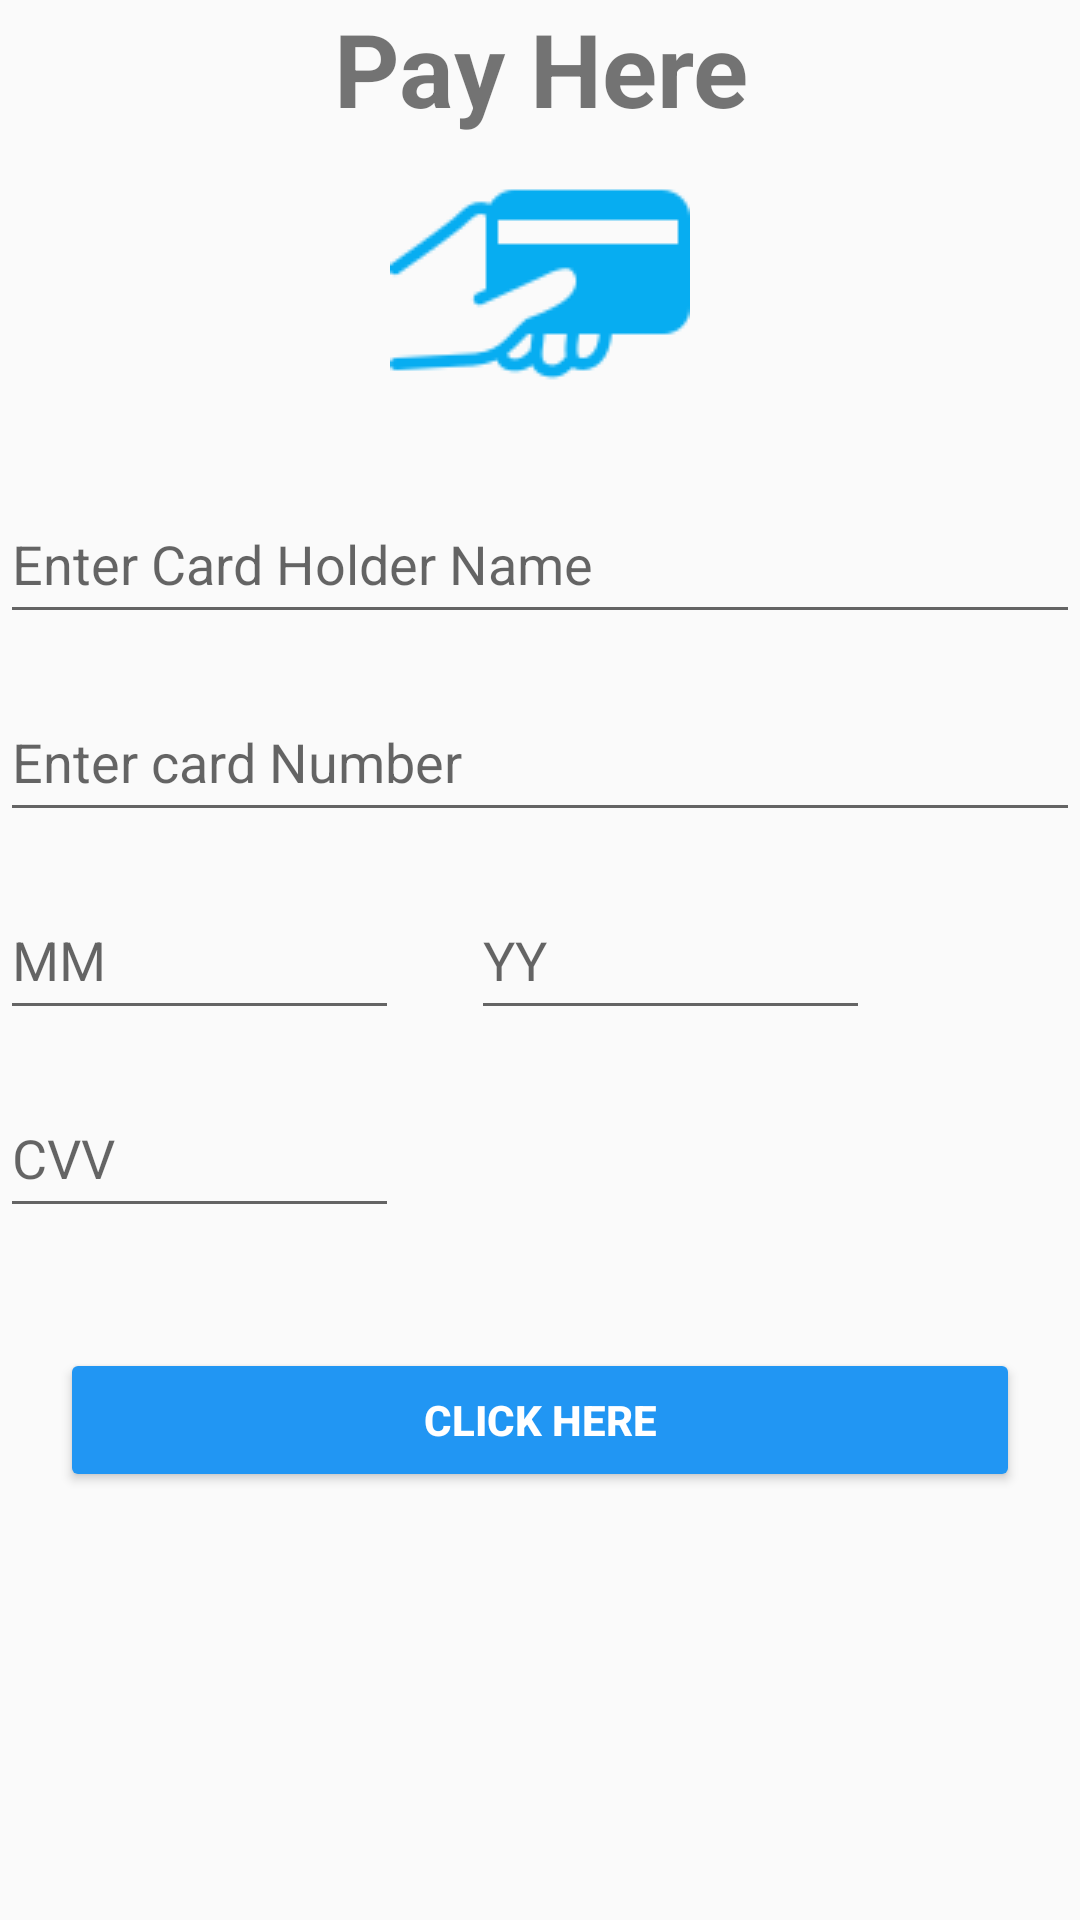

Screen size 1080w x 1920h. Icon name, then its box in pixels as region(x1, y1, x2, y2):
cardicon: region(390, 189, 690, 380)
